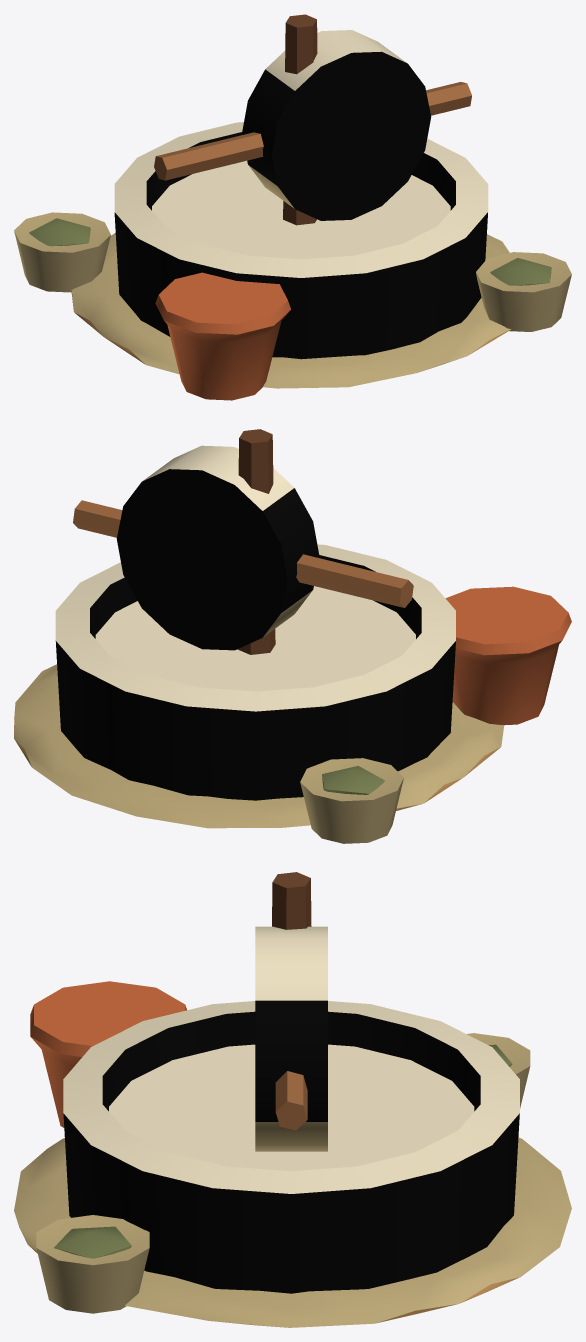
File: OlivePress.fbx
3 views of the same model, one above another, from view 1: azimuth 30°, elevation 25°; view 2: azimuth 150°, elevation 25°; view 3: azimuth 270°, elevation 25° (orthographic). The views are drawn at different scales.
Visible parts, largest first — view 1: OlivePress; view 2: OlivePress; view 3: OlivePress.
Boxes of the visible parts, x1,y1,x2,y2 form: OlivePress: [14, 14, 571, 400]; OlivePress: [14, 429, 571, 843]; OlivePress: [14, 872, 571, 1327].
Bounding box in the file's own units: 1.76 × 1.1 × 1.69.
Materials: 1 (1 with a texture image).
